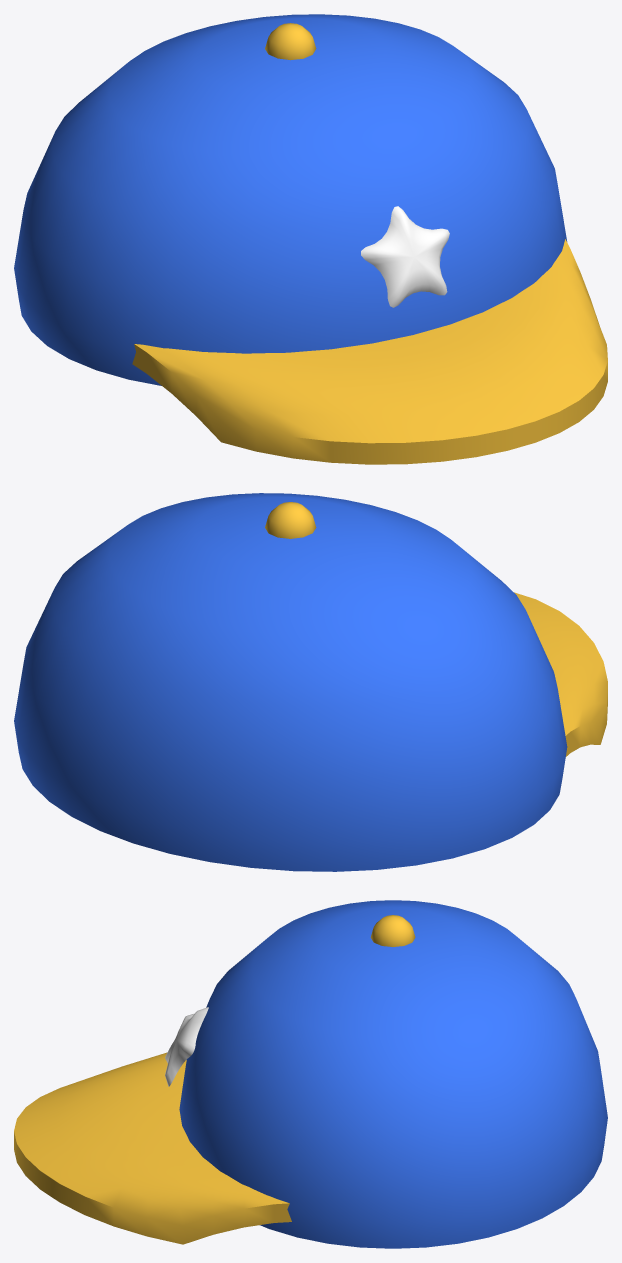
Rendered from baseball_cap.glb.
The picture shows the model from 3 angles, top to bottom: view 1: azimuth 30°, elevation 25°; view 2: azimuth 150°, elevation 25°; view 3: azimuth 270°, elevation 25°; orthographic projection. The views are drawn at different scales.
Visible parts, largest first — view 1: baseball_cap; view 2: baseball_cap; view 3: baseball_cap.
Part boxes in pixels (left/top/right/bottom): baseball_cap: left=14, top=14, right=607, bottom=464; baseball_cap: left=14, top=493, right=607, bottom=871; baseball_cap: left=14, top=900, right=607, bottom=1248.
Bounding box in the file's own units: 0.58 × 0.3161 × 0.6894.
